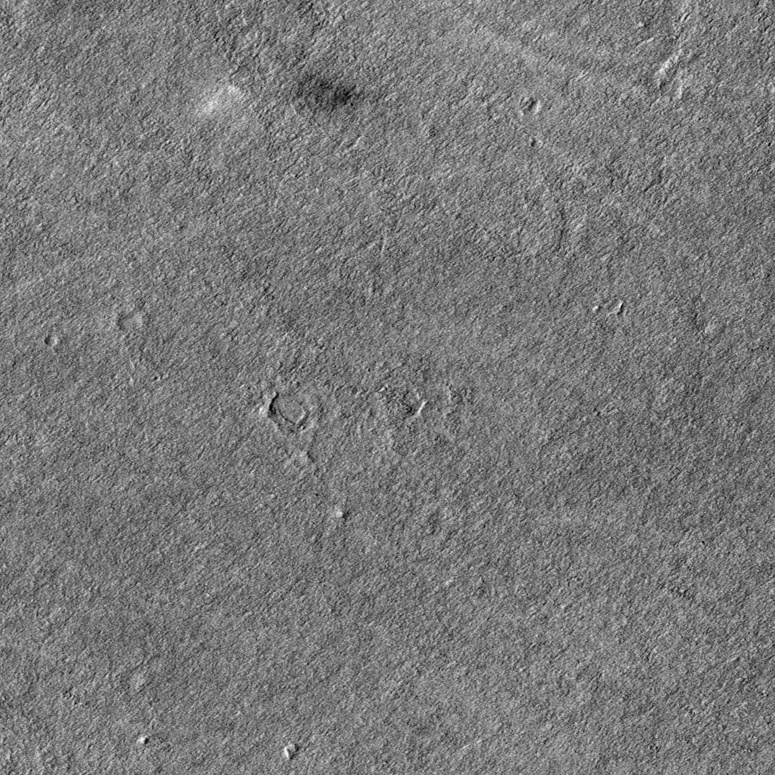dust_devil: (191, 69, 367, 127)
